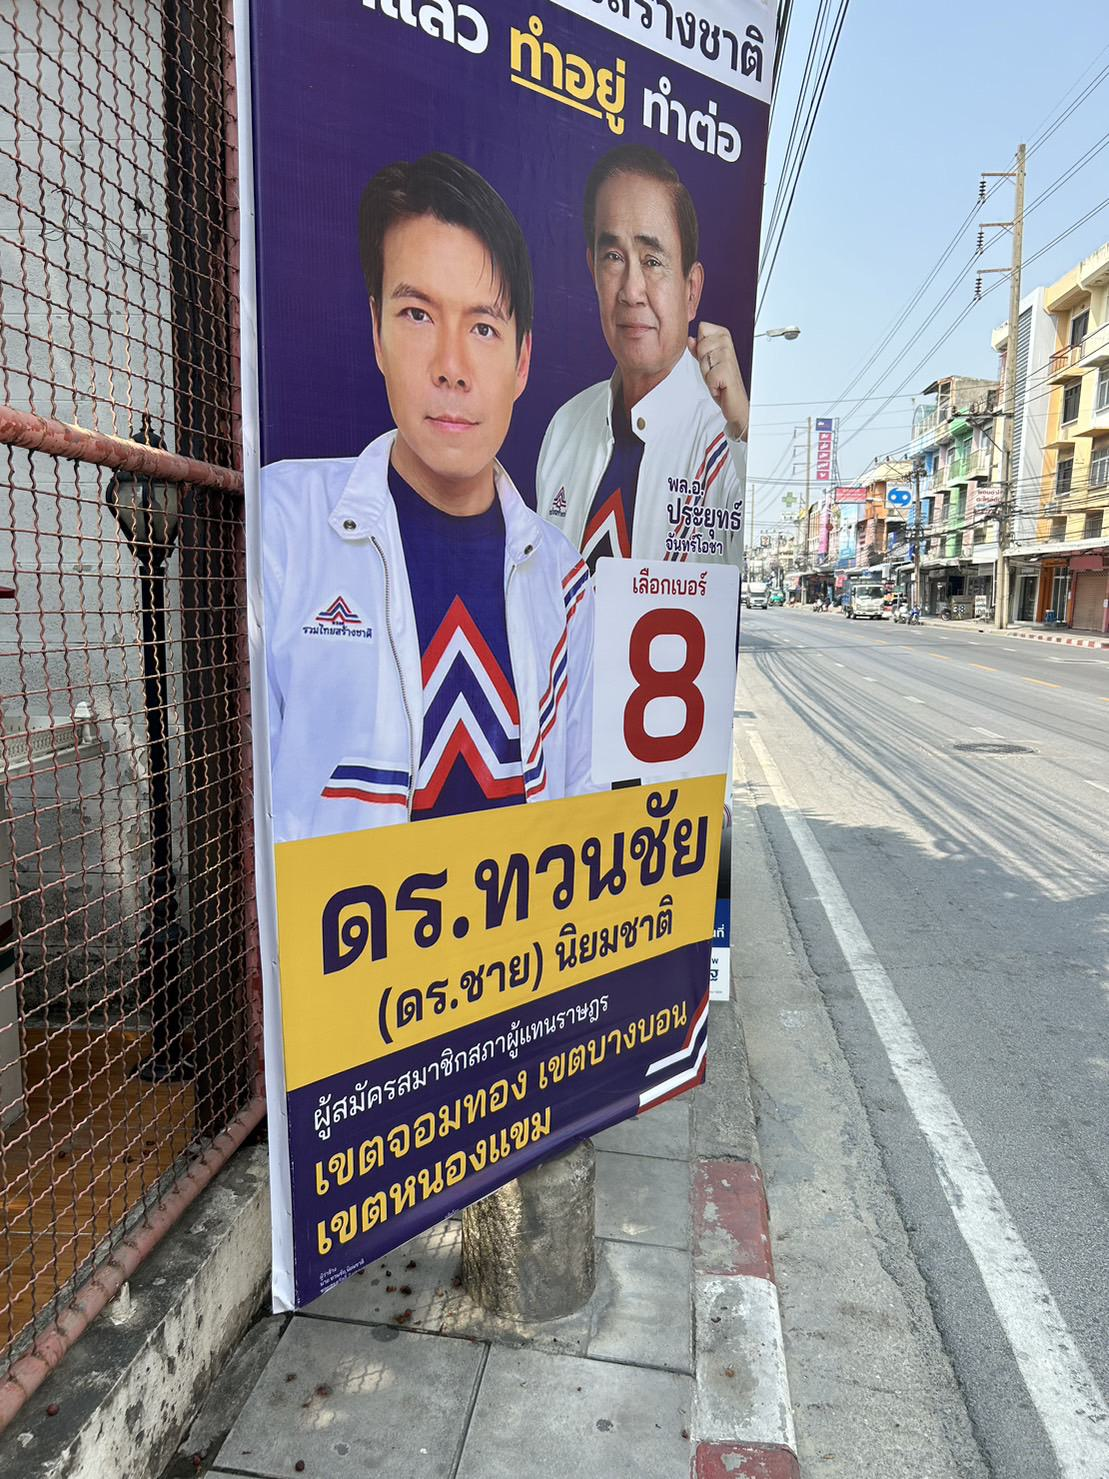Banner: (224, 0, 782, 1290)
